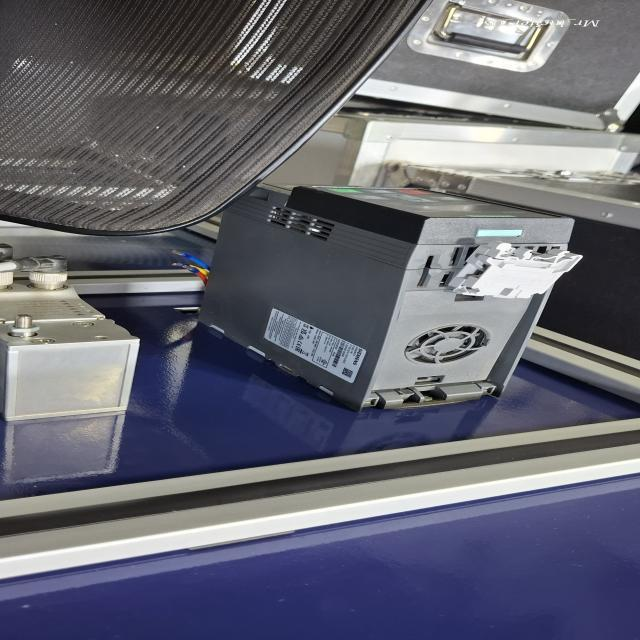Inverted: (459, 242, 587, 298)
